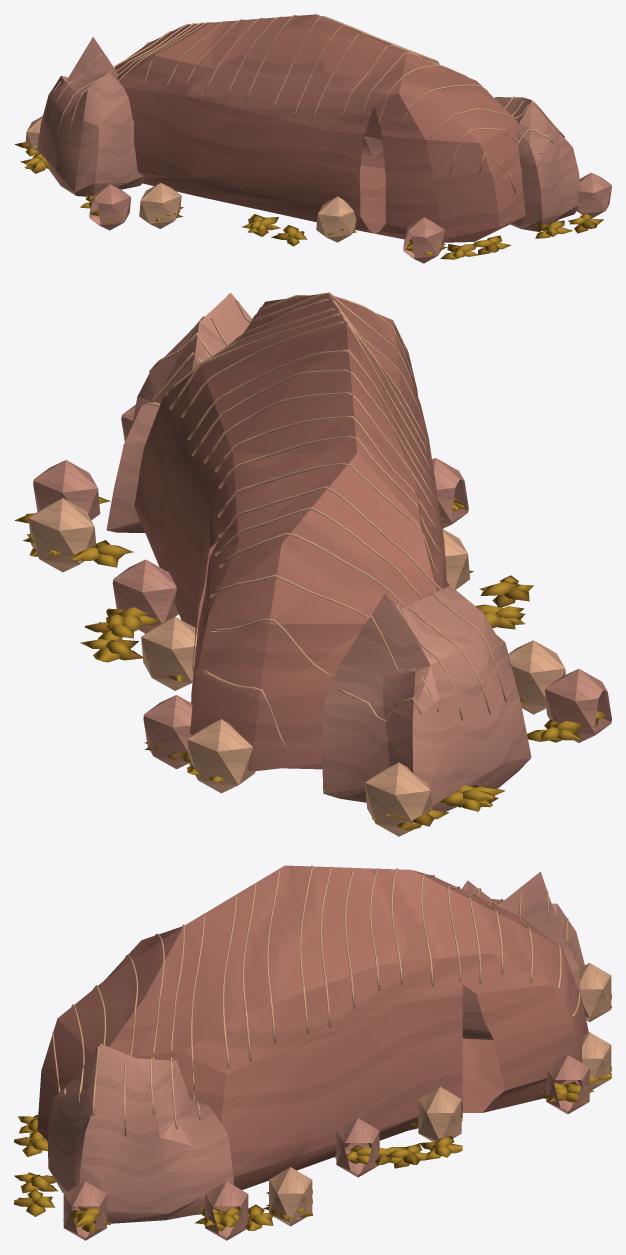
Rendered from PilotRidgeSE_1.fbx.
3 views of the same model, one above another, from view 1: azimuth 30°, elevation 25°; view 2: azimuth 150°, elevation 25°; view 3: azimuth 270°, elevation 25° (orthographic). The views are drawn at different scales.
Visible parts, largest first — view 1: PilotRidgeSE_1__Geometry; view 2: PilotRidgeSE_1__Geometry; view 3: PilotRidgeSE_1__Geometry.
Part boxes in pixels (<box>): PilotRidgeSE_1__Geometry: <box>14,14,611,263</box>; PilotRidgeSE_1__Geometry: <box>14,292,611,836</box>; PilotRidgeSE_1__Geometry: <box>14,865,611,1240</box>.
Size of the model in its own units: 4 by 1.86 by 4.
